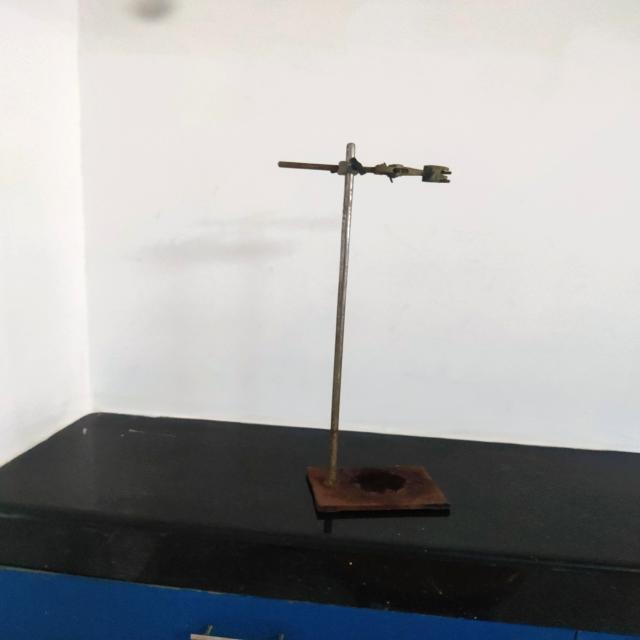Burette_Stands: (245, 117, 506, 555)
